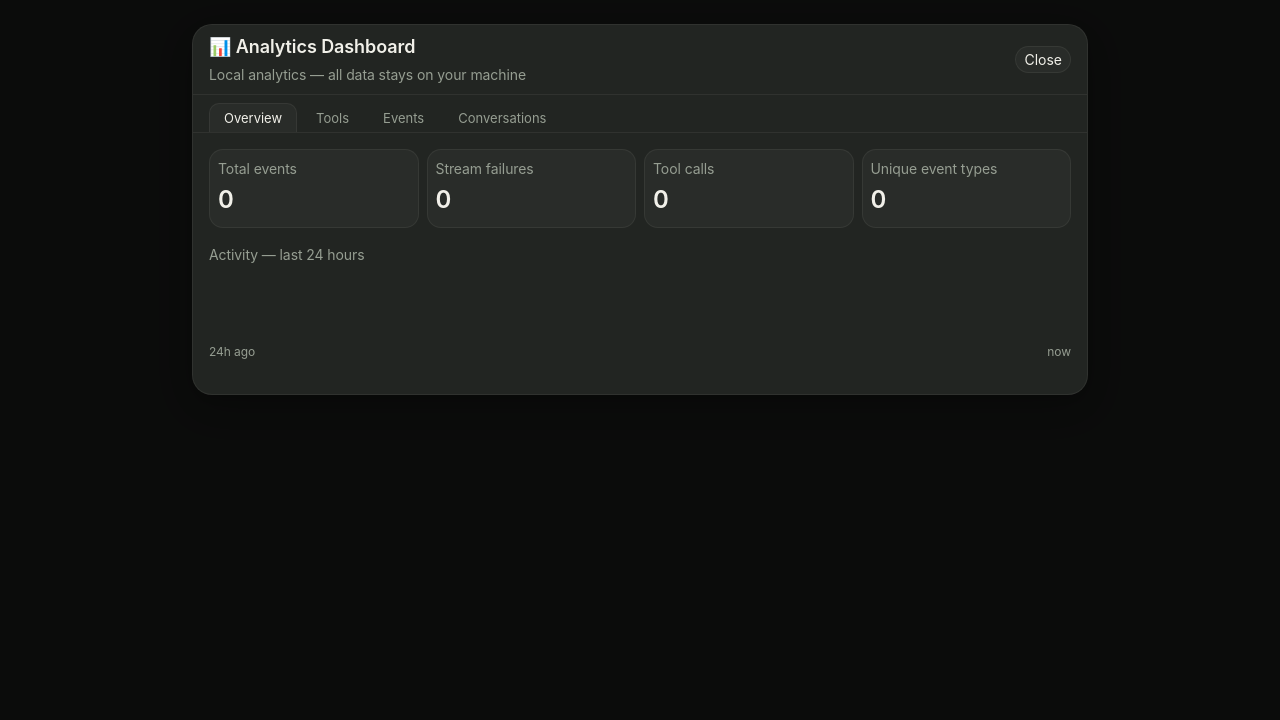
Test: TelemetryDashboard — conversations tab › shows conversation stats when Conversations tab is clicked
Click the button "Conversations": click(502, 118) [443,103,561,132]
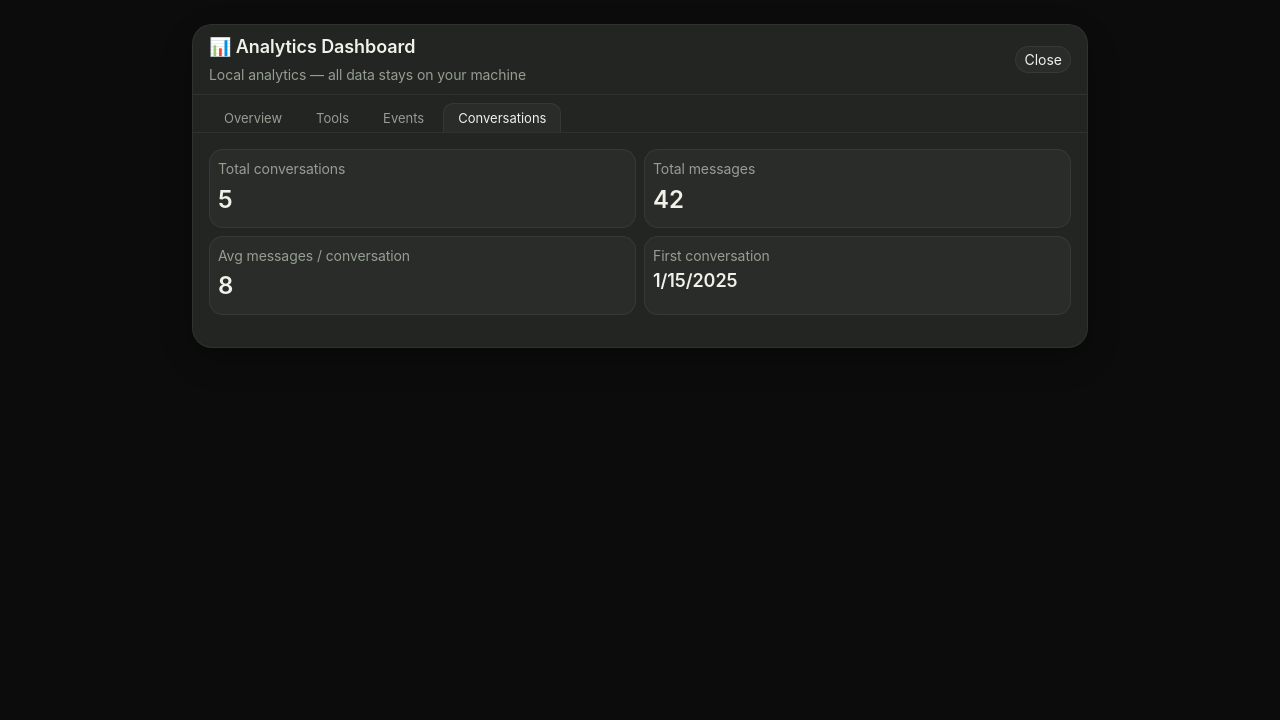
Result: the text "5" is shown at [218,185,233,214]
Result: the text "42" is shown at [653,185,684,214]
Result: the text "8" is shown at [218,271,233,300]
